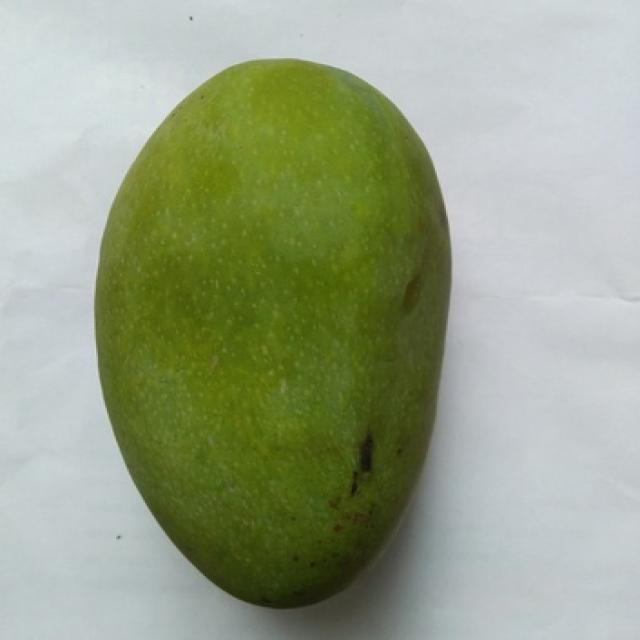Mango: (96, 60, 450, 607)
